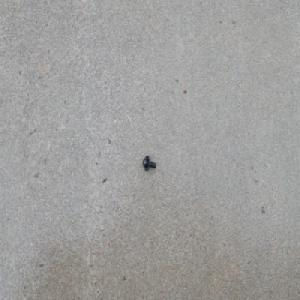BoltWasher: (142, 155, 155, 172)
